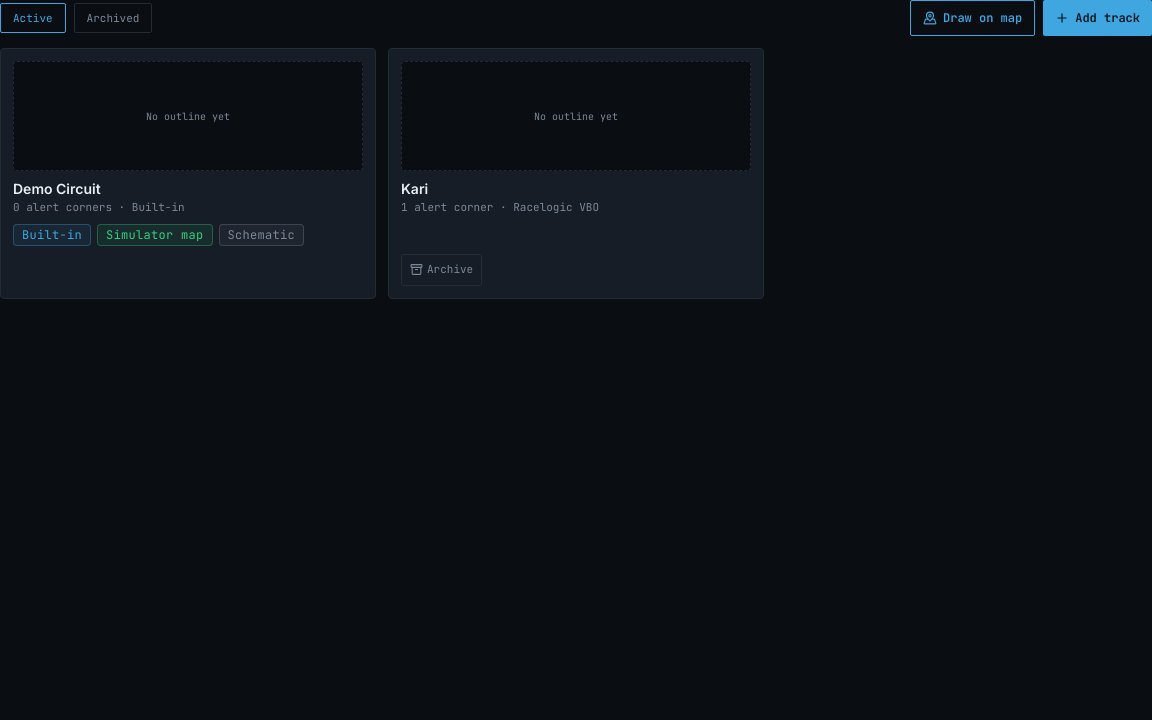
Scenario: MapsBrowser › archives after the user confirms, then reloads
Click the button with test id "archive-Kari" at (442, 270), box [401,254,482,286]
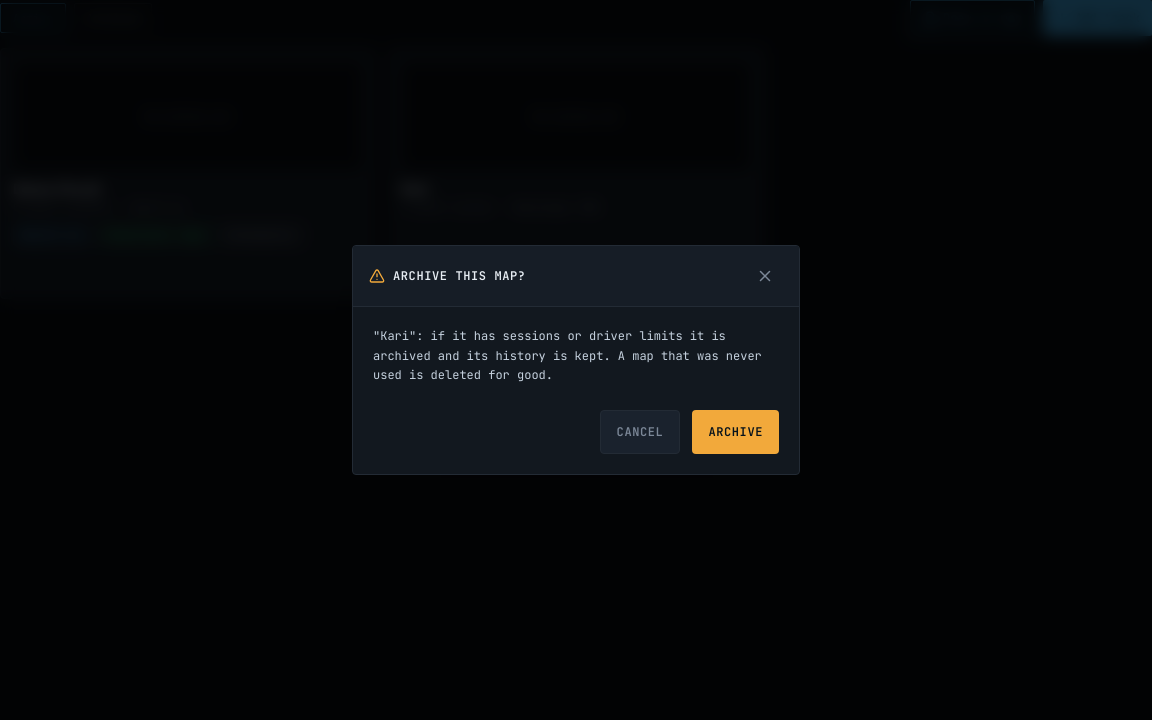
Click the button with test id "confirm-dialog-confirm-btn" at (736, 432), box [692,410,779,454]
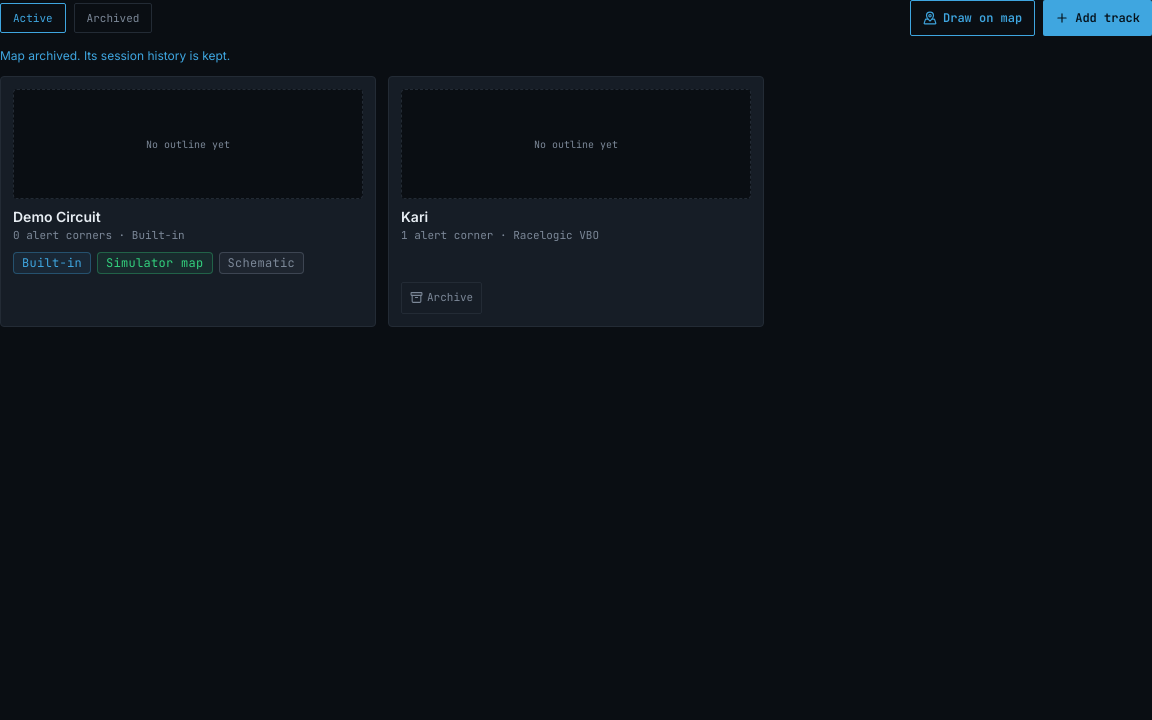
expect the text with test id "maps-notice" shows "archived": met, box [0,48,230,63]
